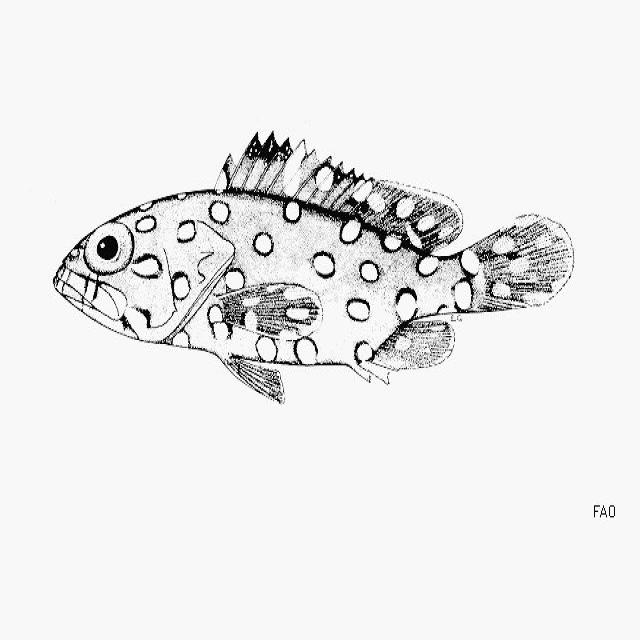ikan: (52, 128, 574, 405)
